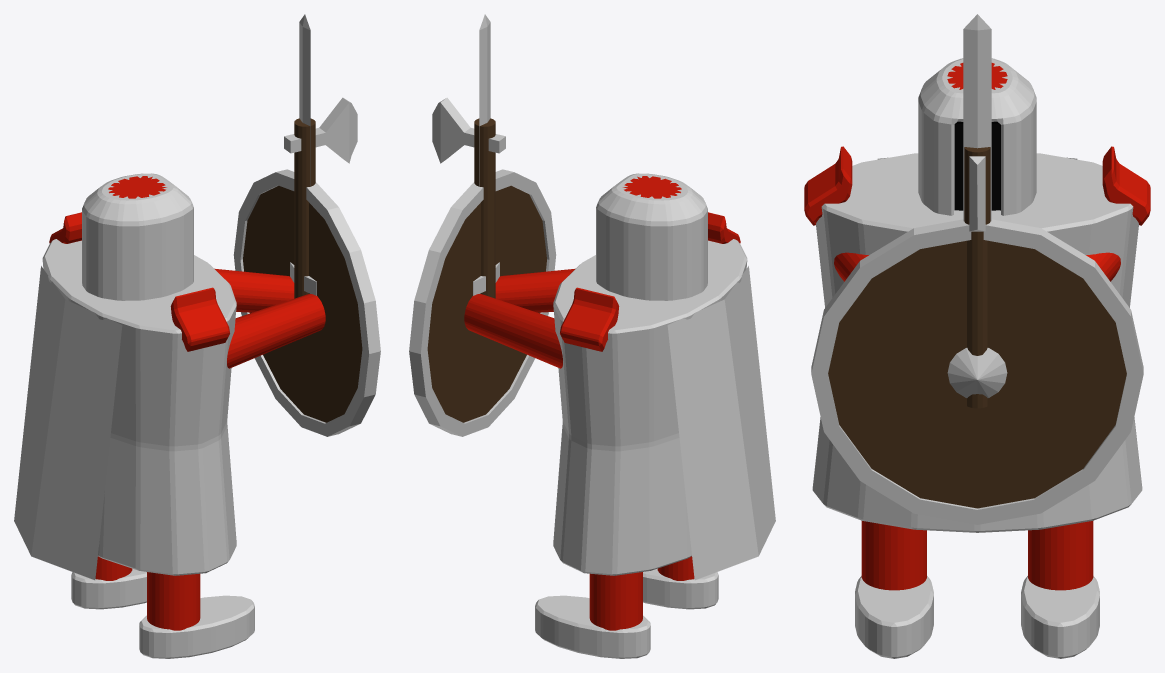
Rendered from character.fbx.
3 renders of one model, left to right at view 1: azimuth 30°, elevation 25°; view 2: azimuth 150°, elevation 25°; view 3: azimuth 270°, elevation 25°, orthographic. The views are drawn at different scales.
Parts seen in each view (by area): view 1: Character, Mantle, Shield, Axe, Sword; view 2: Character, Mantle, Shield, Axe, Sword; view 3: Shield, Character, Axe, Sword.
Boxes of the visible parts, left/top/right/bottom form: Character: left=42, top=173, right=325, bottom=658; Mantle: left=14, top=266, right=122, bottom=580; Shield: left=233, top=169, right=380, bottom=436; Axe: left=284, top=97, right=357, bottom=298; Sword: left=290, top=14, right=316, bottom=295; Character: left=464, top=173, right=747, bottom=658; Mantle: left=667, top=266, right=775, bottom=580; Shield: left=409, top=169, right=556, bottom=436; Axe: left=432, top=97, right=505, bottom=298; Sword: left=473, top=14, right=499, bottom=295; Shield: left=811, top=219, right=1143, bottom=524; Character: left=804, top=58, right=1150, bottom=658; Axe: left=964, top=147, right=990, bottom=408; Sword: left=963, top=14, right=991, bottom=221.
Size of the model in its own units: 139 by 232 by 104.
